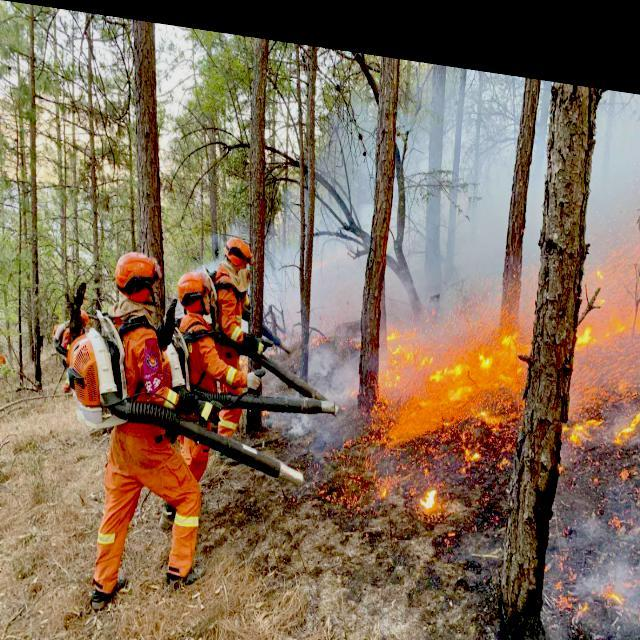Fire: (378, 212, 632, 607)
